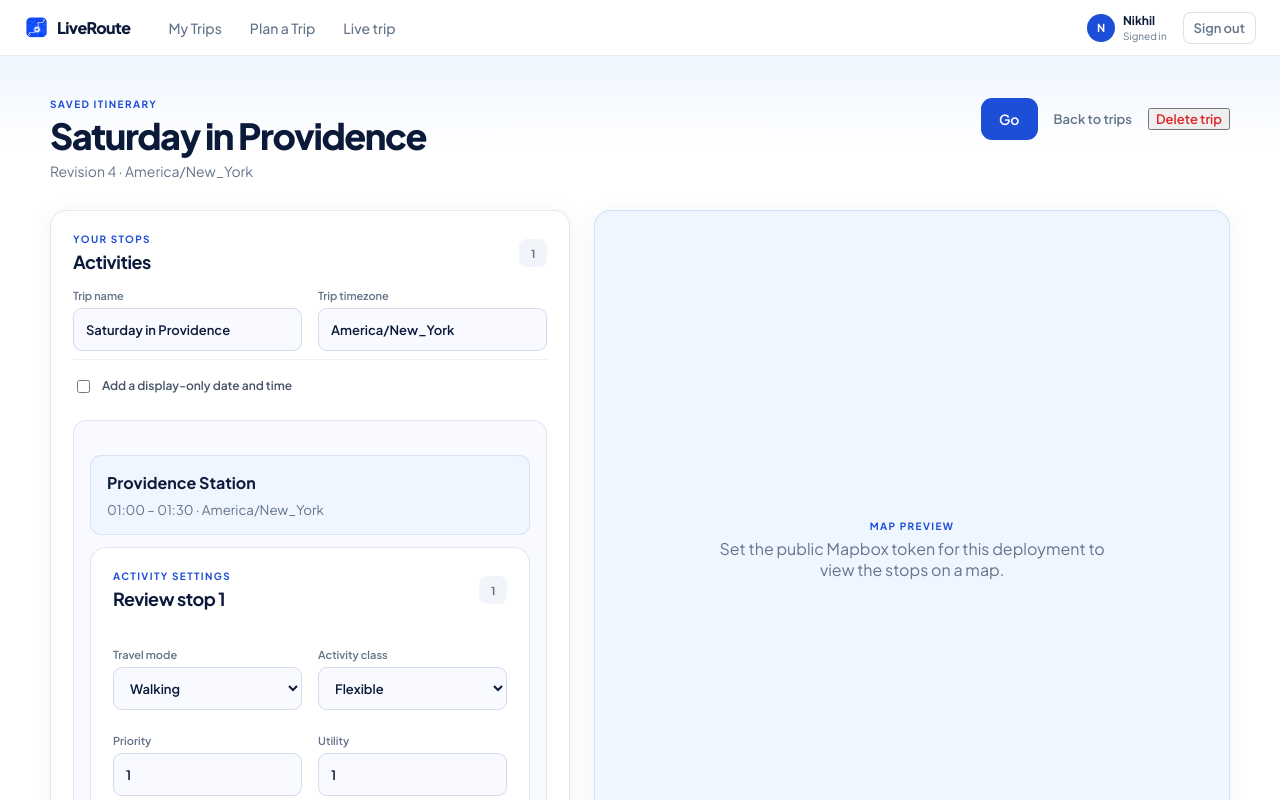
App session restoration › starts a fully scheduled trip from the browser location
This screenshot has width=1280, height=800.
Click the button "Go".
click(1009, 119)  # box 981,98 -> 1038,140
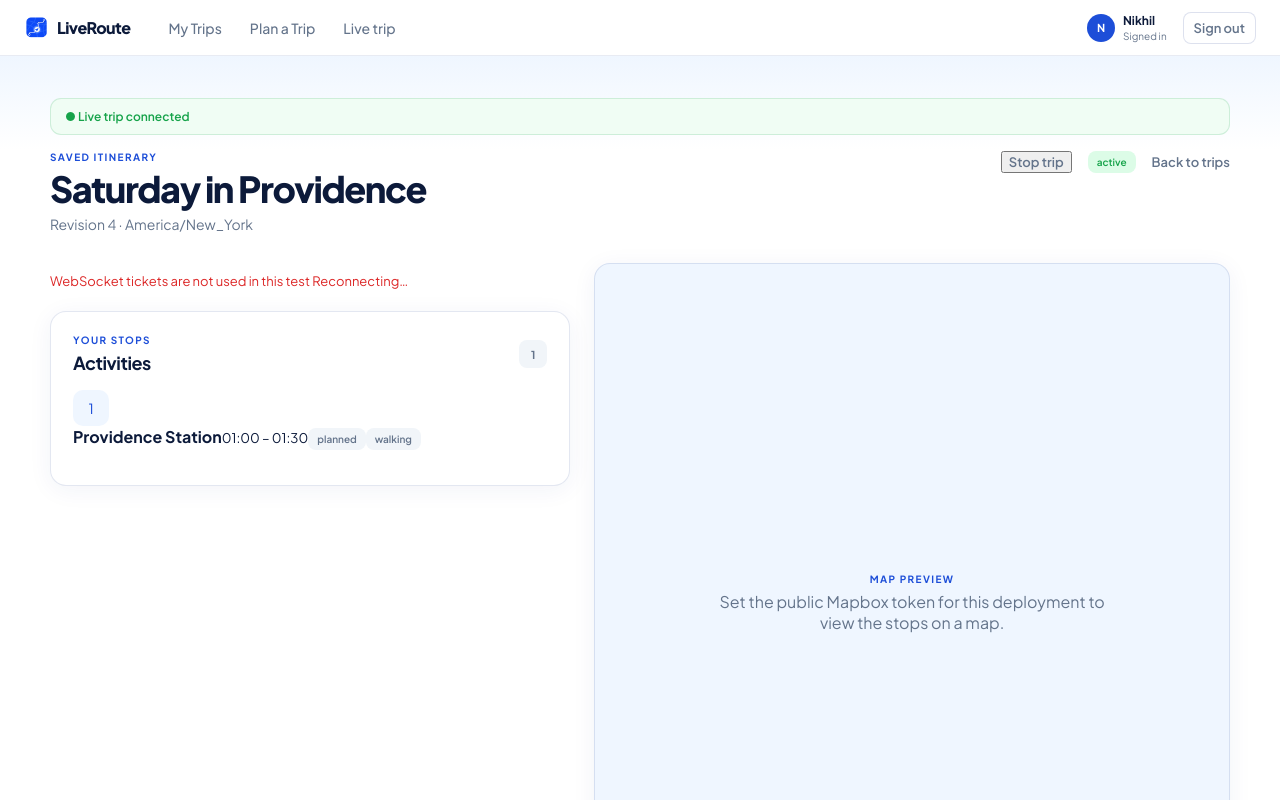
Result: the text "active" is shown at 1088,151 -> 1136,173
